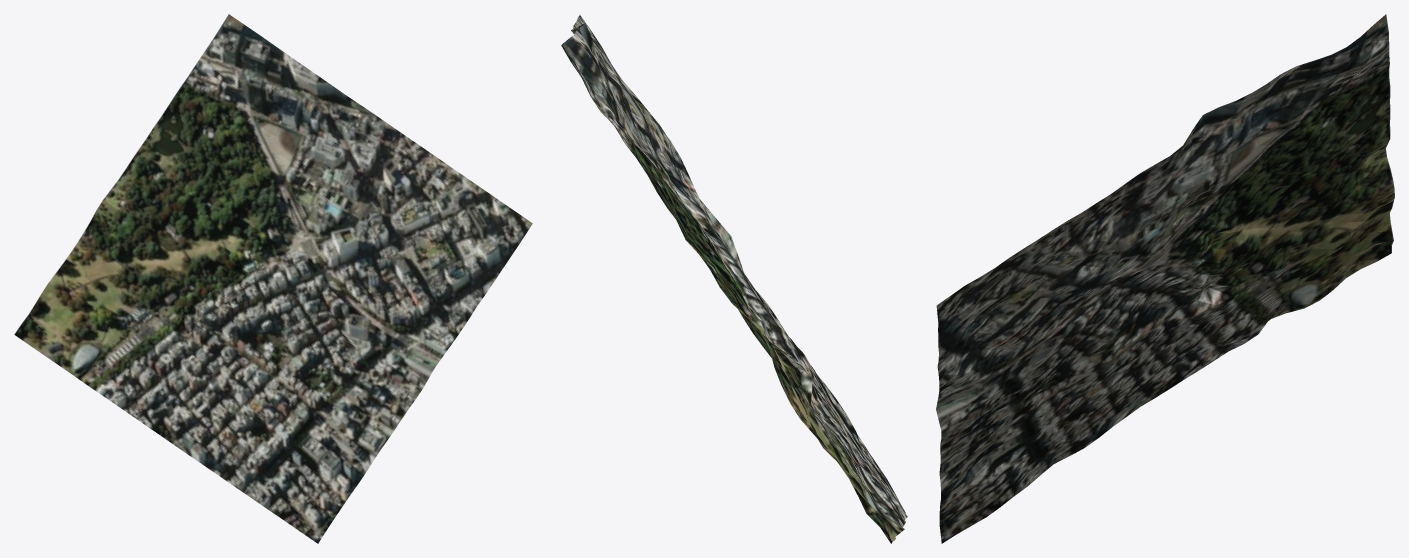
The picture shows the model from 3 angles, left to right: view 1: azimuth 30°, elevation 25°; view 2: azimuth 150°, elevation 25°; view 3: azimuth 270°, elevation 25°; orthographic projection. The views are drawn at different scales.
Bounding box in the file's own units: 1071 × 1139 × 822.
Materials: 1 (1 with a texture image).
